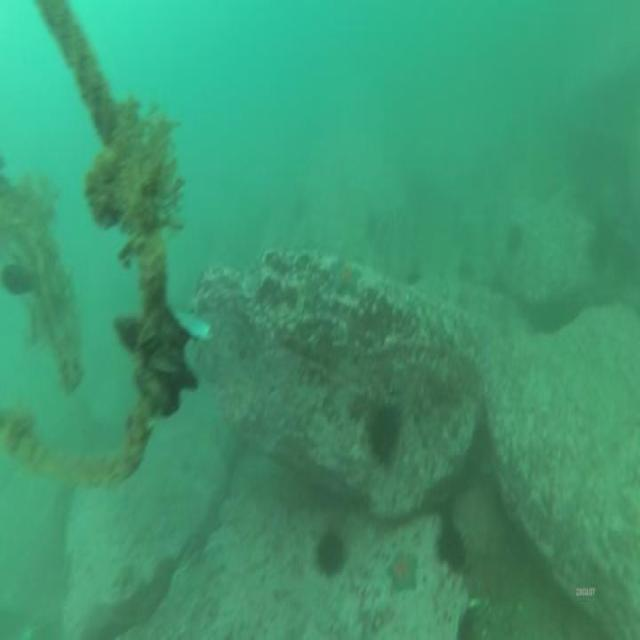echinus: (369, 411, 401, 461), (319, 533, 344, 575), (437, 528, 464, 564), (588, 234, 609, 272), (472, 421, 492, 458), (506, 223, 524, 254)
starfish: (386, 552, 418, 594)
